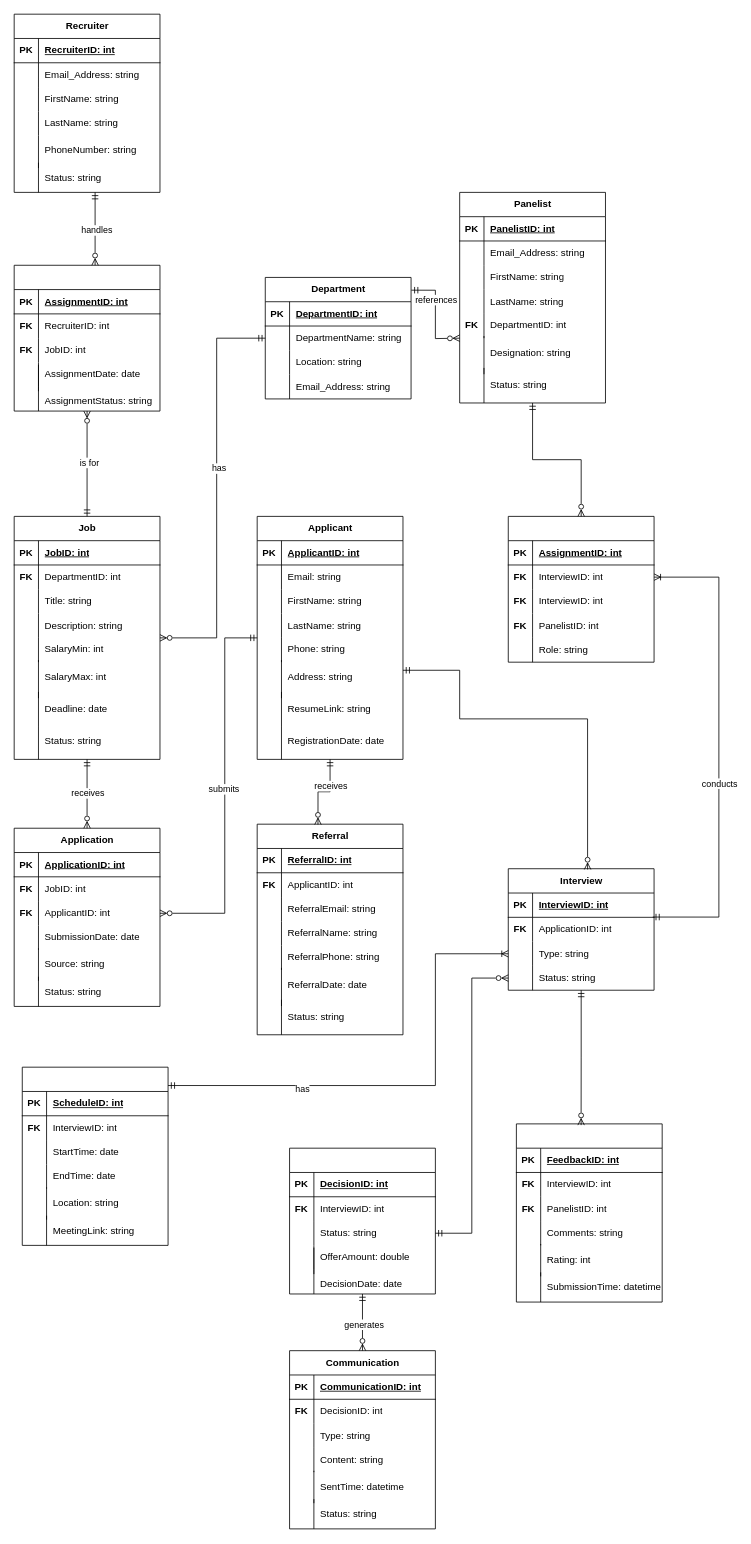
Image size: 751x1544. Some labels were removed from this diagram. Here are the shapes that lost their labels. From the top down, the box of each, then its label:
(13, 264, 160, 411): RecruiterJob
(507, 516, 654, 662): InterviewPanelAssignment
(21, 1066, 168, 1245): InterviewSchedule
(289, 1147, 435, 1294): HiringDecision
(516, 1123, 662, 1302): InterviewFeedback
